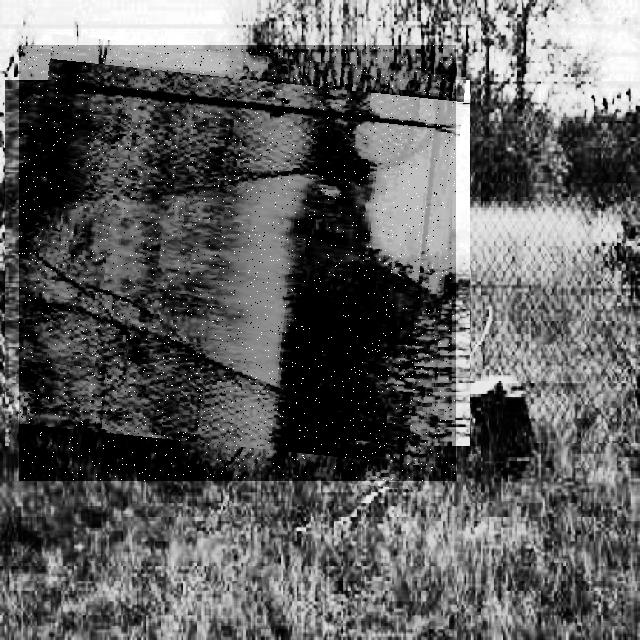anomaly-fence: (19, 45, 456, 481)
